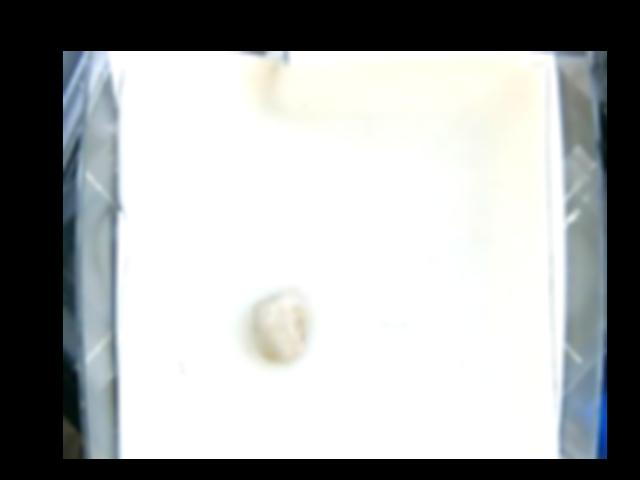Pebble: (250, 289, 309, 362)
